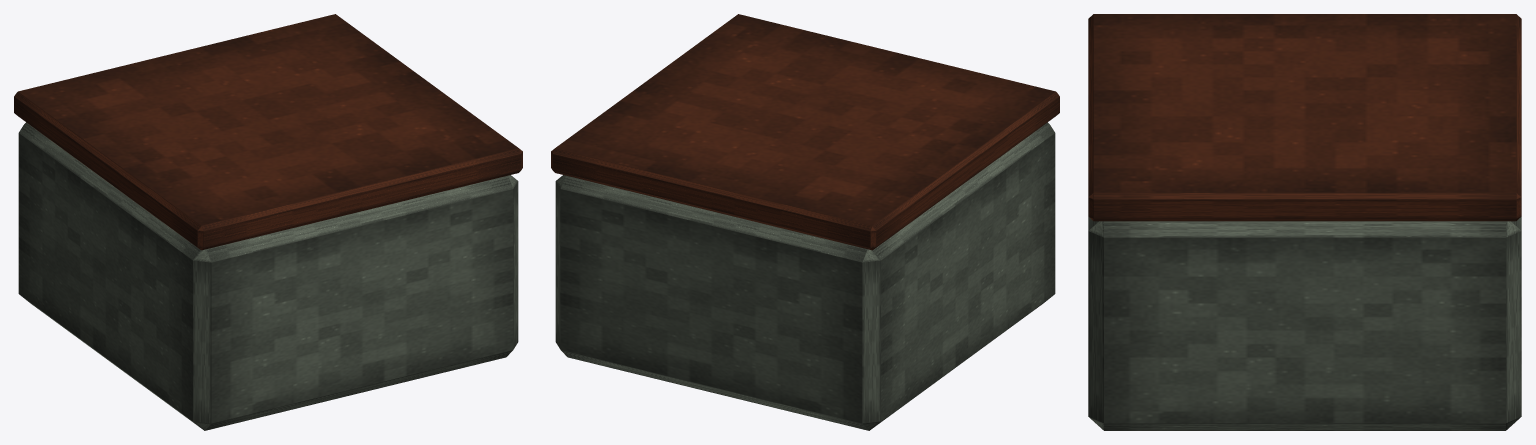
The model's file is THStage_FindSupport_04.fbx.
The picture shows the model from 3 angles, left to right: view 1: azimuth 30°, elevation 25°; view 2: azimuth 150°, elevation 25°; view 3: azimuth 270°, elevation 25°; orthographic projection. The views are drawn at different scales.
Visible parts, largest first — view 1: THStage_FindSupport_04; view 2: THStage_FindSupport_04; view 3: THStage_FindSupport_04.
Boxes of the visible parts, x1,y1,x2,y2 form: THStage_FindSupport_04: [14, 14, 522, 430]; THStage_FindSupport_04: [551, 14, 1059, 430]; THStage_FindSupport_04: [1088, 14, 1521, 430].
Bounding box in the file's own units: 0.33 × 0.204 × 0.33.
1 material, 1 textured.
